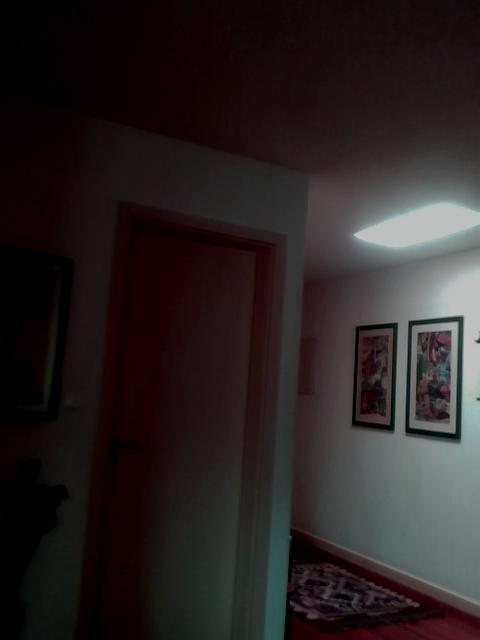closed_door: (77, 198, 285, 638)
